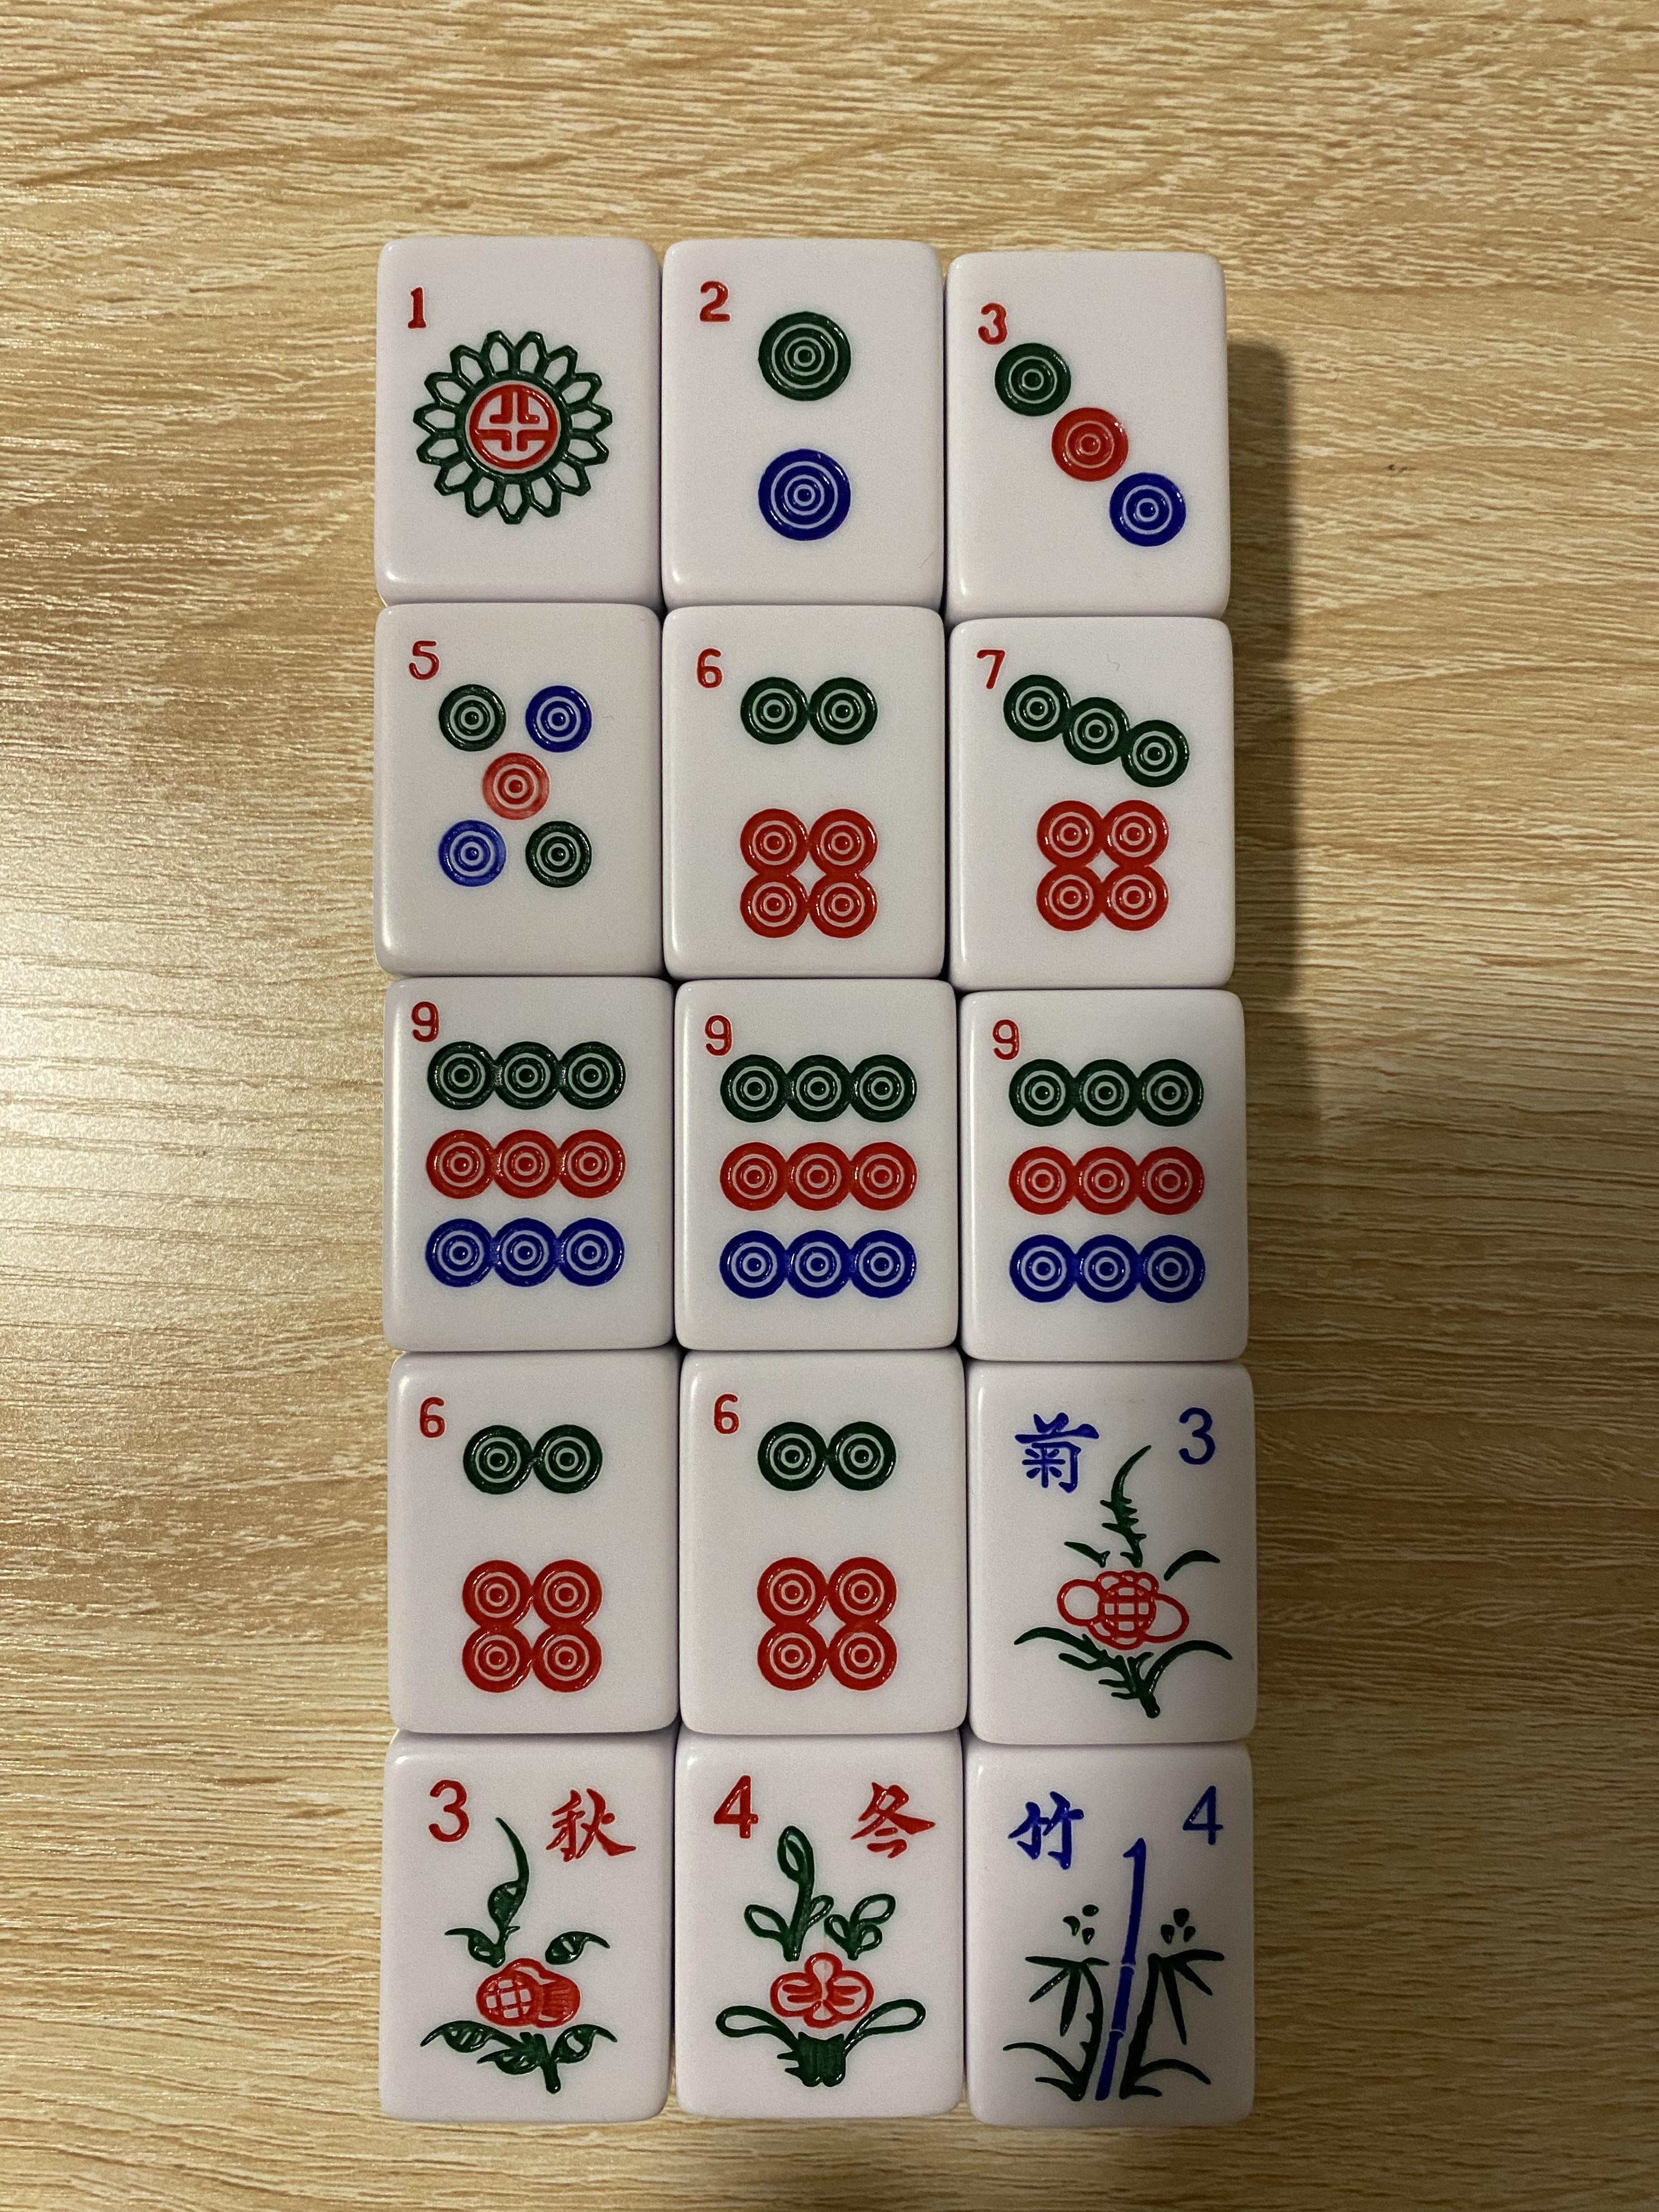circle-five: (380, 610, 657, 963)
circle-nine: (962, 1003, 1244, 1353), (389, 986, 660, 1341), (678, 984, 948, 1341)
circle-one: (383, 244, 650, 590)
circle-seven: (951, 622, 1227, 979)
circle-six: (390, 1364, 673, 1726), (683, 1359, 958, 1723), (664, 611, 941, 970)
circle-three: (955, 268, 1209, 596)
circle-two: (671, 249, 939, 594)
flower-blue_four: (972, 1757, 1251, 2113)
flower-blue_three: (976, 1371, 1253, 1735)
flower-red_four: (678, 1749, 962, 2102)
flower-red_three: (390, 1750, 660, 2109)
